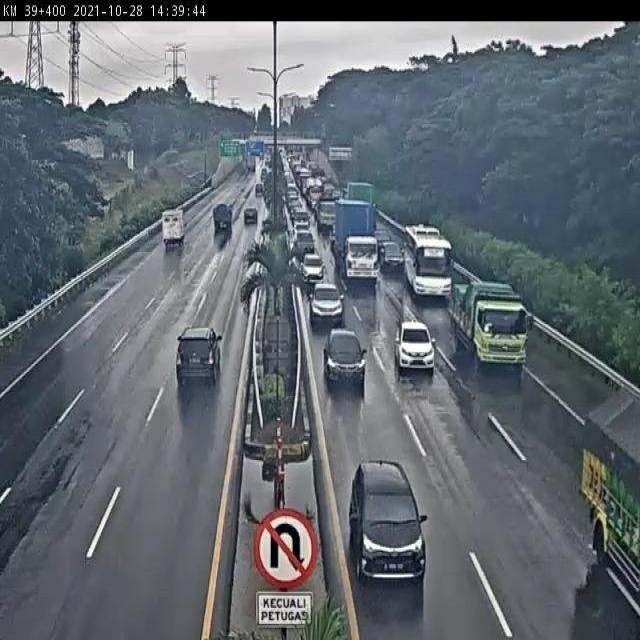big bus: (402, 223, 453, 297)
big truck: (336, 199, 377, 280)
car: (349, 462, 425, 582), (177, 327, 223, 384), (393, 315, 438, 369), (323, 328, 364, 384), (308, 284, 345, 325), (375, 237, 403, 272), (301, 249, 324, 283), (240, 205, 260, 228)
mid truck: (450, 279, 532, 373)
small truck: (159, 207, 188, 248), (210, 204, 235, 236)
